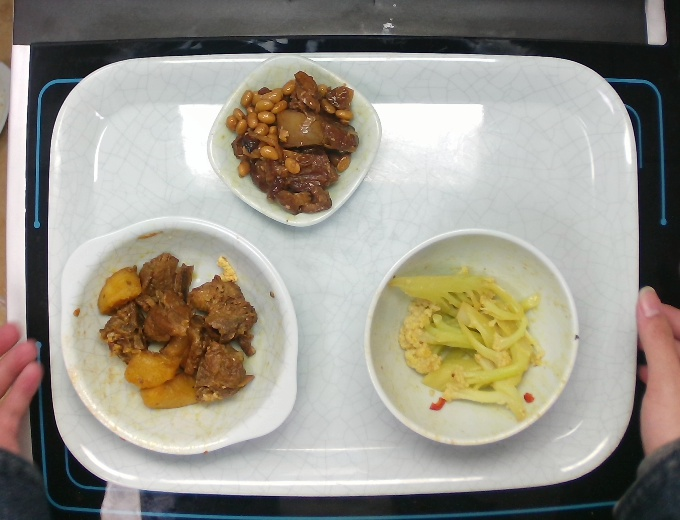JYsf-Fan_Wan: (358, 221, 586, 451)
JYsf-Shuang_Er_Wan: (52, 209, 304, 458)
JYsf-Si_Fang_Die: (203, 52, 387, 231)
